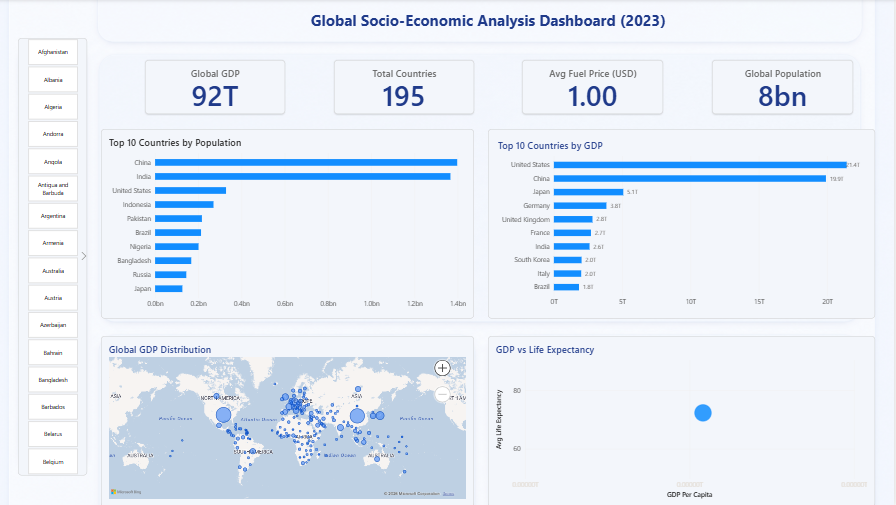

This screenshot's page, from the dashboard's own definition file:
{"tool":"powerbi","page":{"name":"Country Analysis","canvas":[1920,1080],"ordinal":1},"visuals":[{"type":"card","title":"Global GDP","fields":{"Values":["Measure Table.Total GDP"]},"box":[327.2,128.7,297.7,115.3],"z":0},{"type":"card","title":"Global Population","fields":{"Values":["Measure Table.Total Population"]},"box":[1533.9,128.7,300.3,115.3],"z":1000},{"type":"card","title":"Total Countries","fields":{"Values":["Measure Table.Total Countries"]},"box":[728.5,128.7,297.7,115.3],"z":2000},{"type":"card","title":"Avg Fuel Price (USD)","fields":{"Values":["Measure Table.Avg Fuel Price"]},"box":[1129.8,128.7,300.3,115.3],"z":3000},{"type":"map","title":"Global GDP Distribution","fields":{"Size":["Measure Table.Total GDP"],"X":["Dim_Geography.Longitude"],"Y":["Dim_Geography.Latitude"]},"box":[233.3,716.7,793.3,363.3],"z":4000},{"type":"scatterChart","title":"GDP vs Life Expectancy","fields":{"Size":["Measure Table.Total Population"],"X":["Measure Table.GDP Per Capita"],"Y":["Measure Table.Avg Life Expectancy"]},"box":[1056.7,716.7,823.3,363.3],"z":5000},{"type":"slicer","fields":{"Values":["Dim_Country.Country"]},"box":[56.7,83.3,146.7,930],"z":6000},{"type":"clusteredBarChart","title":"Top 10 Countries by Population","fields":{"Category":["Dim_Country.Country"],"Y":["Measure Table.Total Population"]},"box":[233.3,276.7,793.3,403.3],"z":7000},{"type":"clusteredBarChart","title":"Top 10 Countries by GDP","fields":{"Category":["Dim_Country.Country"],"Y":["Measure Table.Total GDP"]},"box":[1056.7,276.7,823.3,403.3],"z":8000},{"type":"textbox","box":[233.3,23.3,1646.7,60],"z":9000}]}

Visuals, with their boxes on the page's 1920x1080 design canvas (x1, y1, x2, y2). These are canvas units, not pixel positions in the 896x505 screenshot, which may show the page scaled, cropped or inside an application window:
"Global GDP" card: pyautogui.locateOnScreen(327, 129, 625, 244)
"Global Population" card: pyautogui.locateOnScreen(1534, 129, 1834, 244)
"Total Countries" card: pyautogui.locateOnScreen(728, 129, 1026, 244)
"Avg Fuel Price (USD)" card: pyautogui.locateOnScreen(1130, 129, 1430, 244)
"Global GDP Distribution" map: pyautogui.locateOnScreen(233, 717, 1027, 1080)
"GDP vs Life Expectancy" scatterChart: pyautogui.locateOnScreen(1057, 717, 1880, 1080)
slicer - Dim_Country.Country: pyautogui.locateOnScreen(57, 83, 203, 1013)
"Top 10 Countries by Population" clusteredBarChart: pyautogui.locateOnScreen(233, 277, 1027, 680)
"Top 10 Countries by GDP" clusteredBarChart: pyautogui.locateOnScreen(1057, 277, 1880, 680)
textbox: pyautogui.locateOnScreen(233, 23, 1880, 83)
